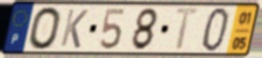0: (200, 6, 231, 53)
5: (97, 7, 128, 51)
8: (129, 7, 159, 52)
K: (58, 8, 90, 50)
O: (27, 6, 63, 52)
T: (173, 6, 203, 53)
